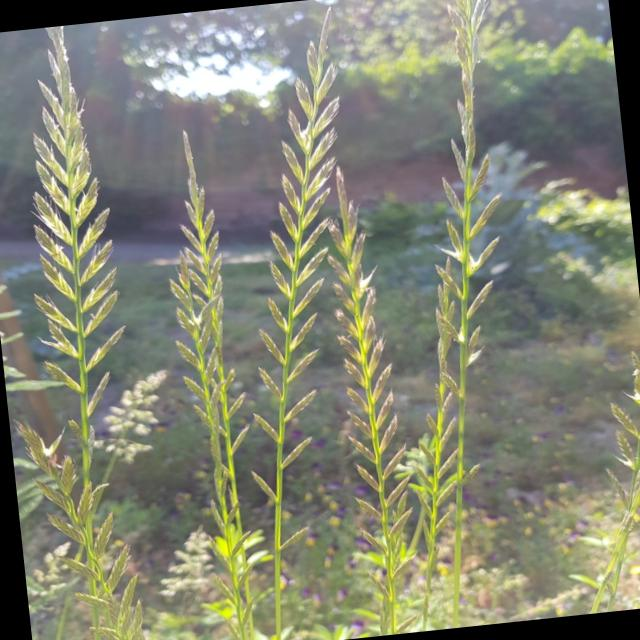Lolium: (368, 0, 571, 627), (202, 21, 385, 506), (8, 34, 134, 412), (322, 157, 424, 566), (165, 128, 258, 548), (402, 378, 483, 592)
